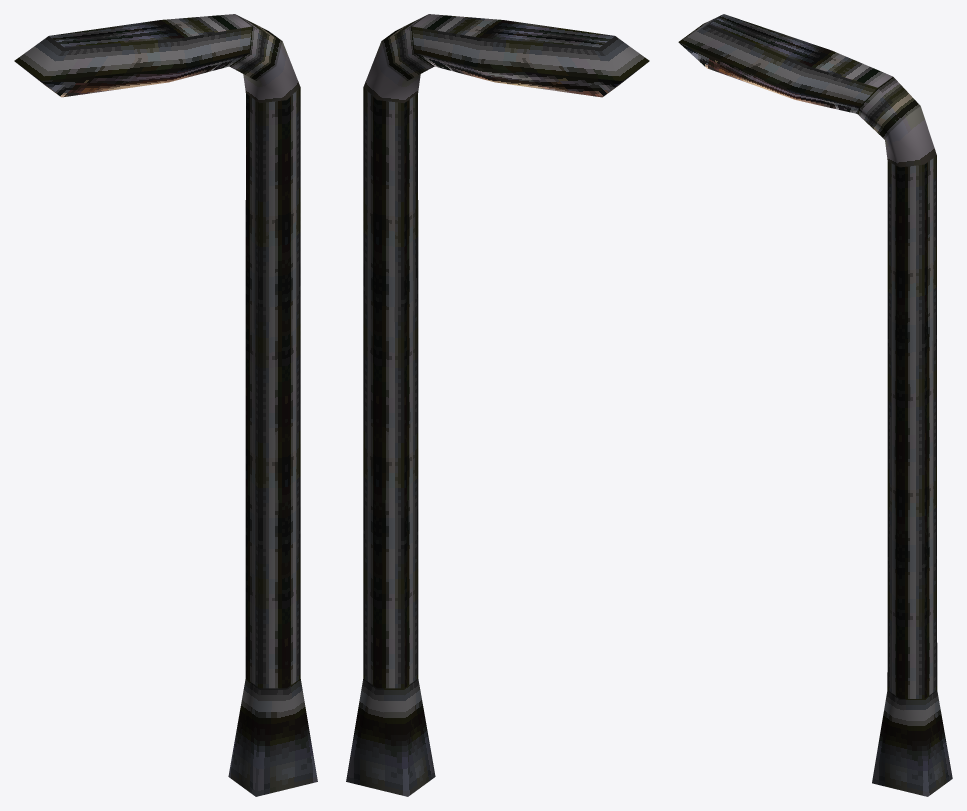
File: prop_street_light.glb
The picture shows the model from 3 angles, left to right: view 1: azimuth 30°, elevation 25°; view 2: azimuth 150°, elevation 25°; view 3: azimuth 330°, elevation 25°; orthographic projection. The views are drawn at different scales.
Visible parts, largest first — view 1: Street_Light_Pole; view 2: Street_Light_Pole; view 3: Street_Light_Pole.
Boxes of the visible parts, left/top/right/bottom form: Street_Light_Pole: left=14, top=14, right=317, bottom=796; Street_Light_Pole: left=346, top=14, right=649, bottom=796; Street_Light_Pole: left=678, top=14, right=952, bottom=796.
Bounding box in the file's own units: 1.46 × 4 × 0.4528.
Materials: 2 (2 with a texture image).
